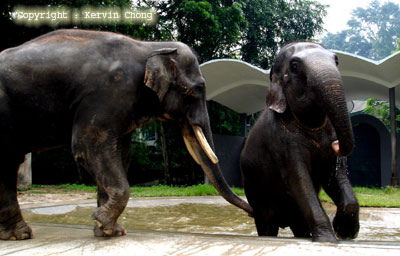elephant: (1, 26, 243, 248), (248, 31, 375, 251)
